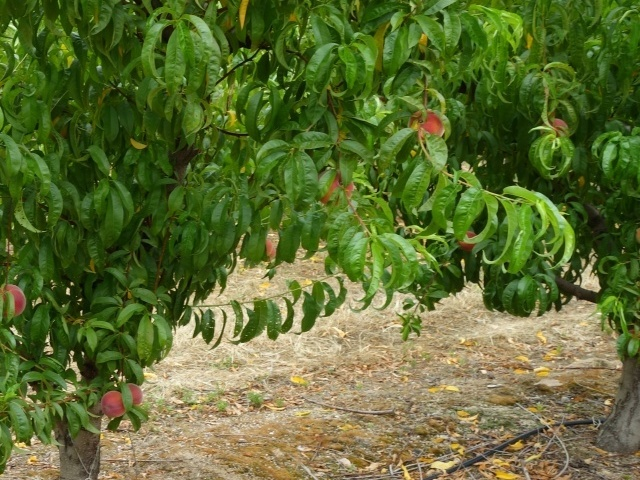peach: (314, 163, 356, 211), (406, 106, 444, 142), (1, 281, 29, 320), (97, 388, 128, 420), (539, 111, 572, 141), (117, 378, 145, 407), (453, 228, 478, 252)
